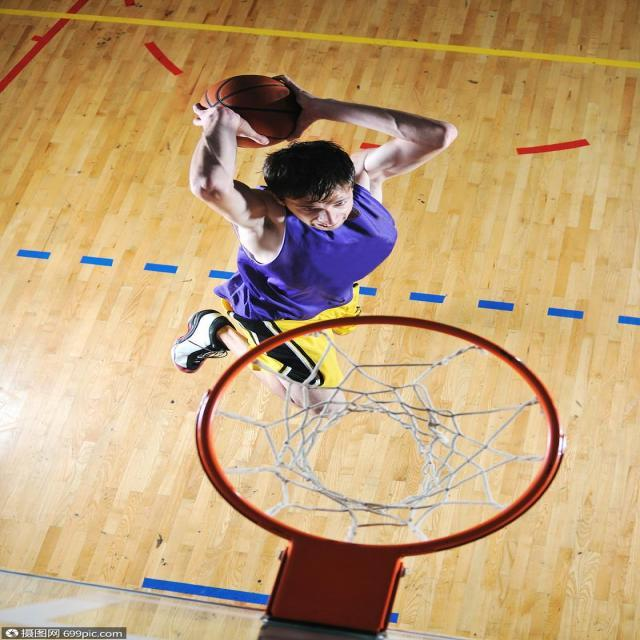rim: (198, 76, 298, 146)
